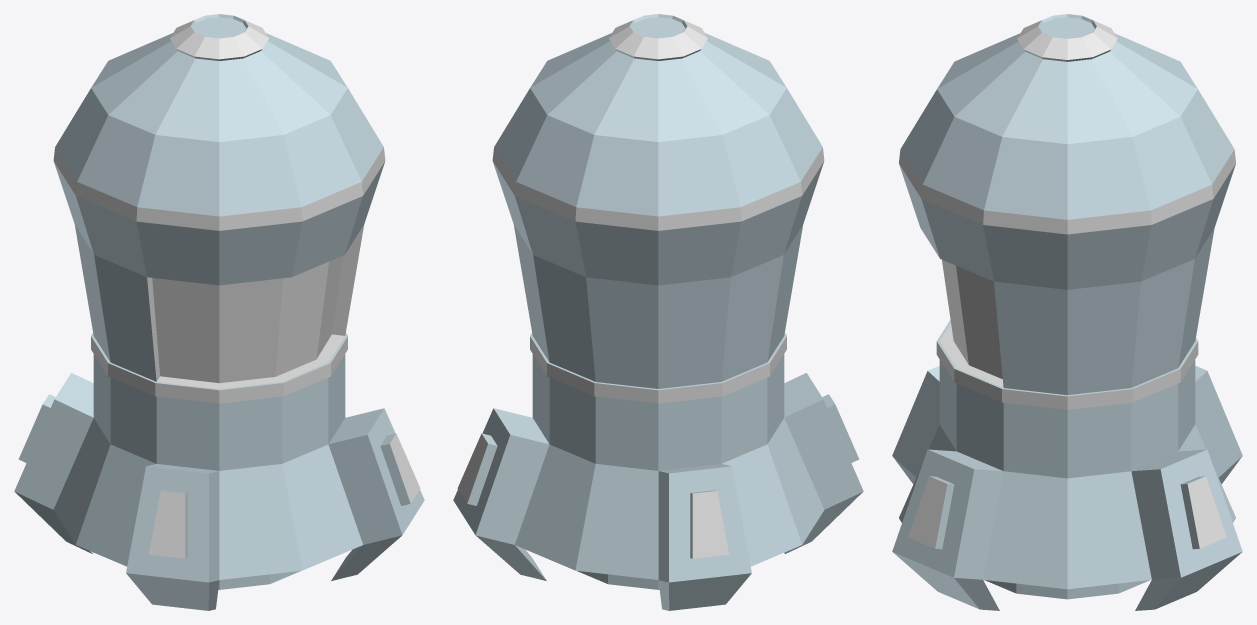
The model's file is capsula.fbx.
3 renders of one model, left to right at view 1: azimuth 30°, elevation 25°; view 2: azimuth 150°, elevation 25°; view 3: azimuth 270°, elevation 25°, orthographic.
Parts seen in each view (by area): view 1: carcasa, luces, vidrio; view 2: carcasa, luces; view 3: carcasa, luces, vidrio.
Boxes of the visible parts, left/top/right/bottom form: carcasa: left=14, top=14, right=424, bottom=610; luces: left=53, top=20, right=420, bottom=558; vidrio: left=152, top=256, right=343, bottom=383; carcasa: left=453, top=14, right=863, bottom=610; luces: left=457, top=20, right=824, bottom=558; carcasa: left=892, top=14, right=1242, bottom=610; luces: left=899, top=20, right=1235, bottom=548; vidrio: left=942, top=260, right=1002, bottom=378.
Bounding box in the file's own units: 274 × 465 × 274.
